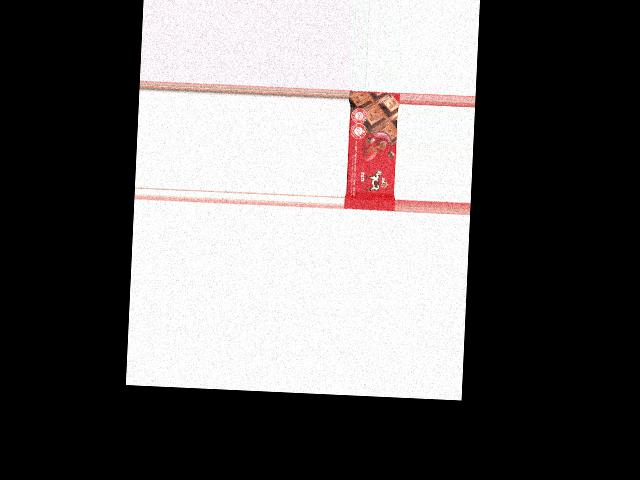chocolate: (343, 91, 399, 212)
